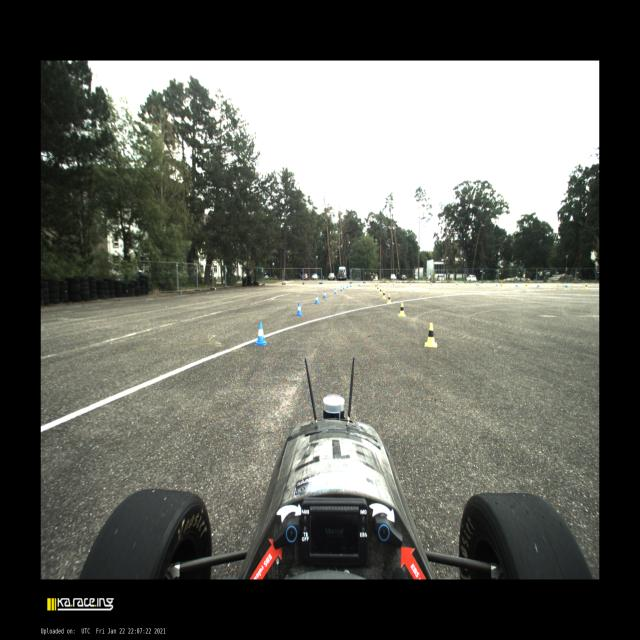blue_cone: (255, 322, 267, 346), (296, 302, 303, 316), (314, 294, 320, 304), (323, 290, 327, 298), (334, 288, 337, 294), (340, 286, 343, 292), (565, 282, 568, 288), (537, 282, 540, 287), (343, 284, 345, 290), (516, 282, 518, 288), (409, 282, 412, 285), (346, 284, 348, 288), (358, 282, 360, 286), (478, 282, 480, 286), (496, 282, 498, 286), (374, 282, 376, 285), (393, 282, 395, 285), (350, 283, 351, 287), (457, 282, 458, 286), (431, 282, 432, 285)
yellow_cone: (424, 323, 437, 347), (398, 302, 406, 316), (387, 294, 391, 304), (382, 292, 387, 298), (584, 284, 588, 290), (379, 288, 382, 294), (525, 284, 528, 288), (500, 282, 502, 288), (377, 286, 379, 291), (375, 285, 377, 289), (376, 283, 378, 287), (475, 283, 477, 286), (455, 283, 457, 286), (388, 282, 389, 286), (405, 282, 406, 286), (429, 282, 430, 286)
